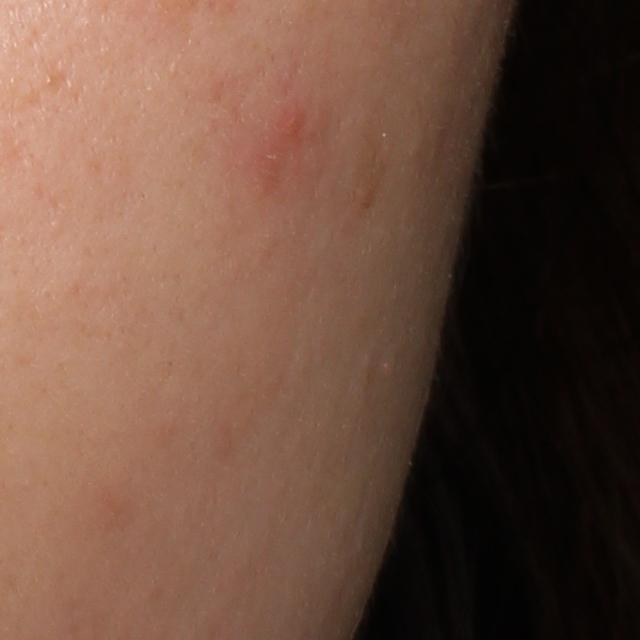papule: (265, 107, 304, 145)
